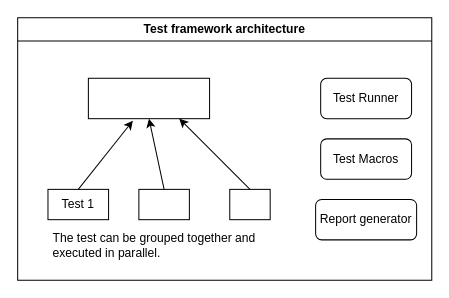
Some shapes in this 449 by 298 pixel diagram are drawn without their labels. Each missing label, with the centre of its shape:
"Test 2" belongs at (163,204).
"Test 3" belongs at (249,204).
"Test Groups" belongs at (148,98).
